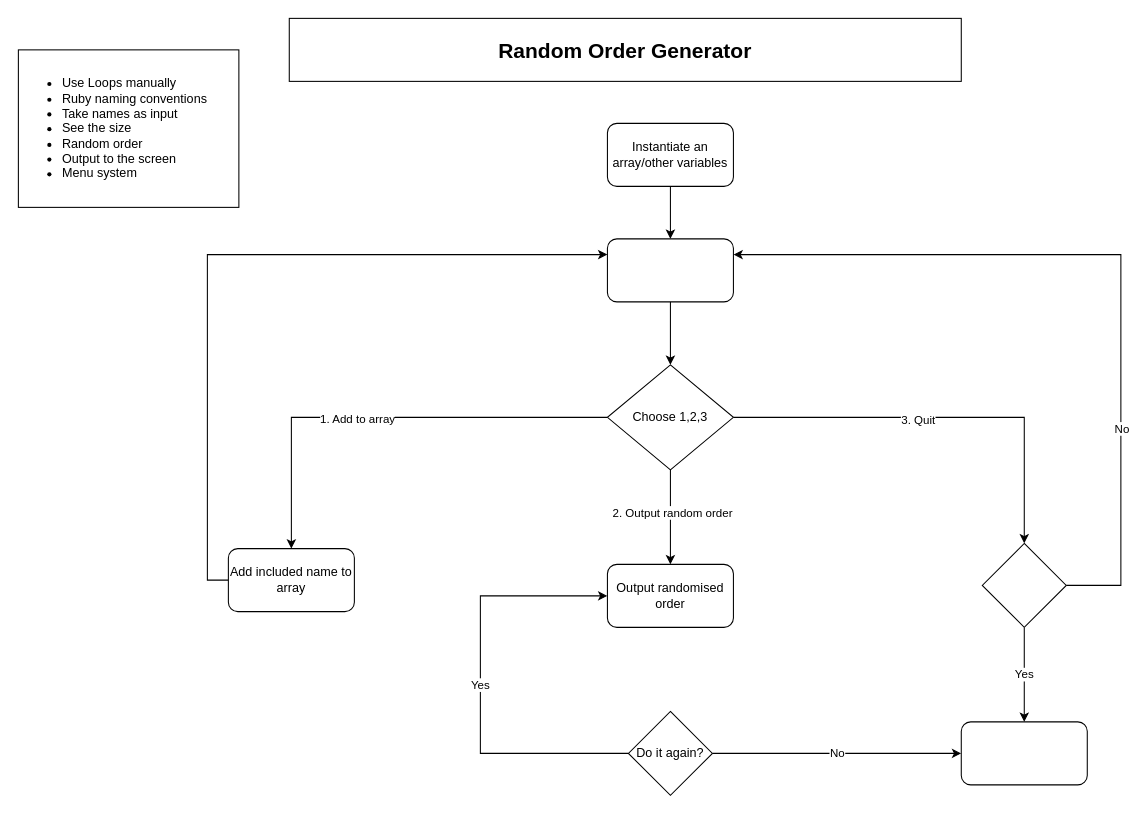
This 1148x814 diagram has some shape labels left out. The shapes that lost their labels are listed below. From the top down, each one's centre as x and y in pixels, then its label:
point (669, 270): Show menu and take menu input
point (1023, 584): Are you sure?
point (1023, 753): Exit program
